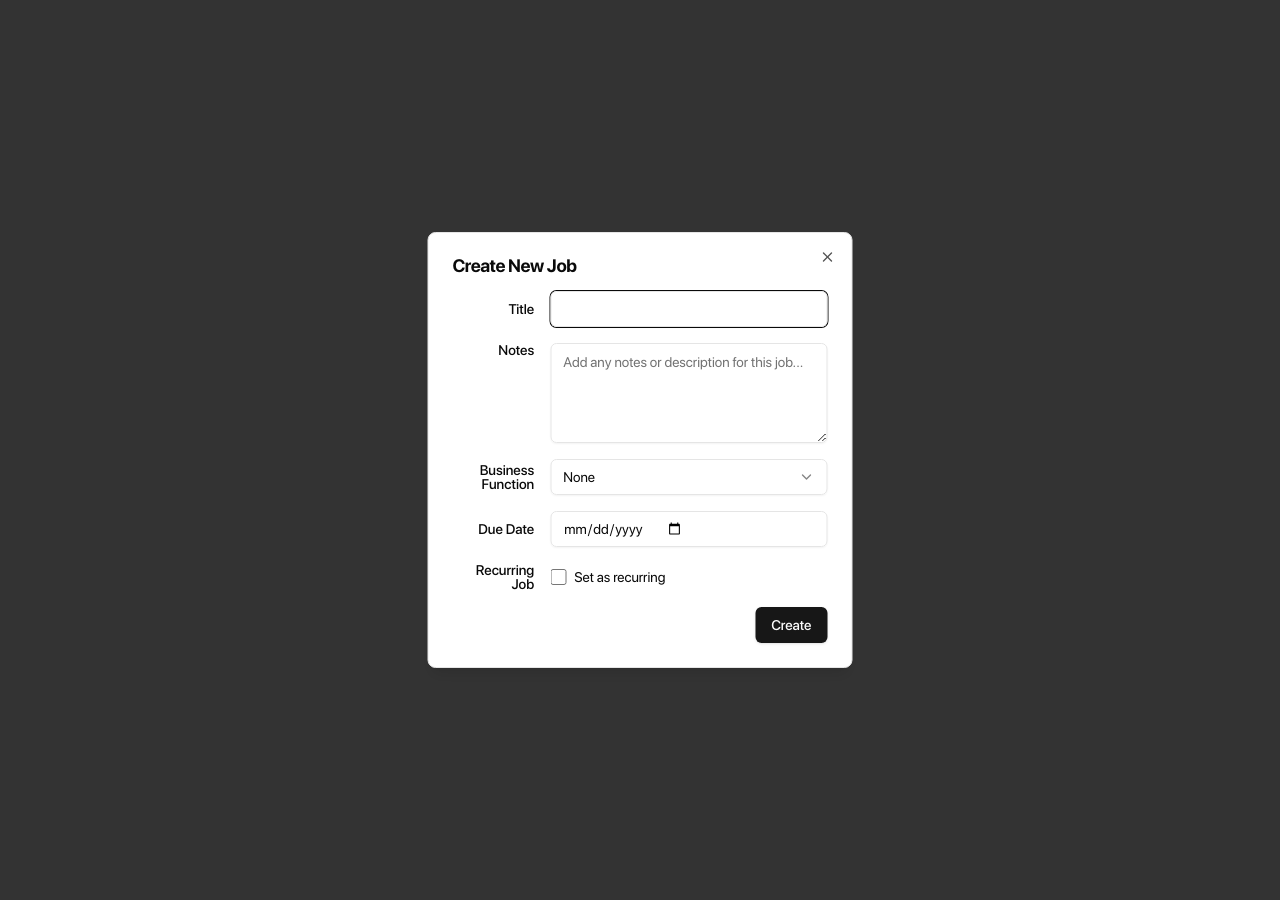
Scenario: JobDialog › Form Submission › shows loading state during submission
Type "New Job" into the field labelled "Title" at (689, 309), box [550,291,828,327]
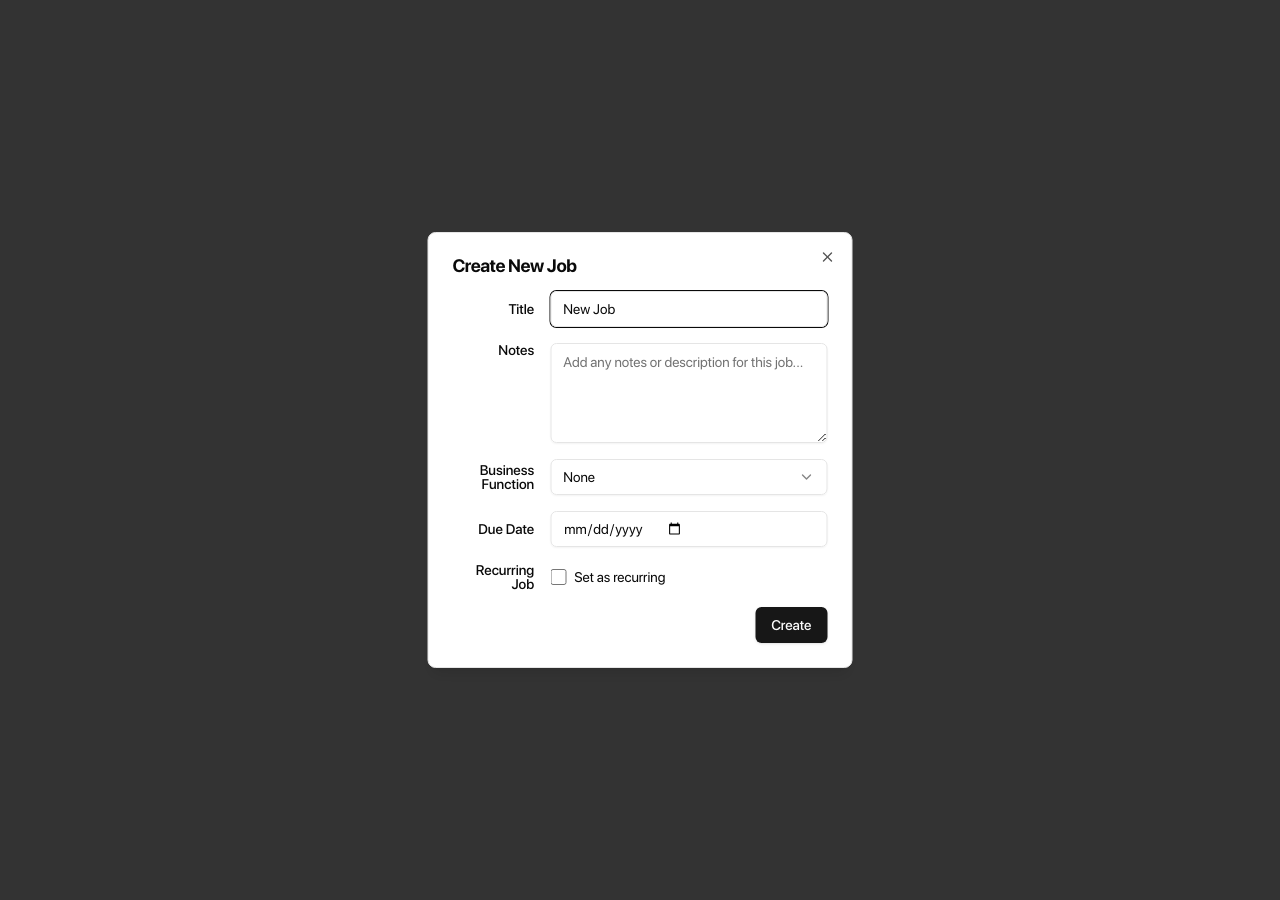
Click the button "Create" at (791, 625), box [755,607,828,643]
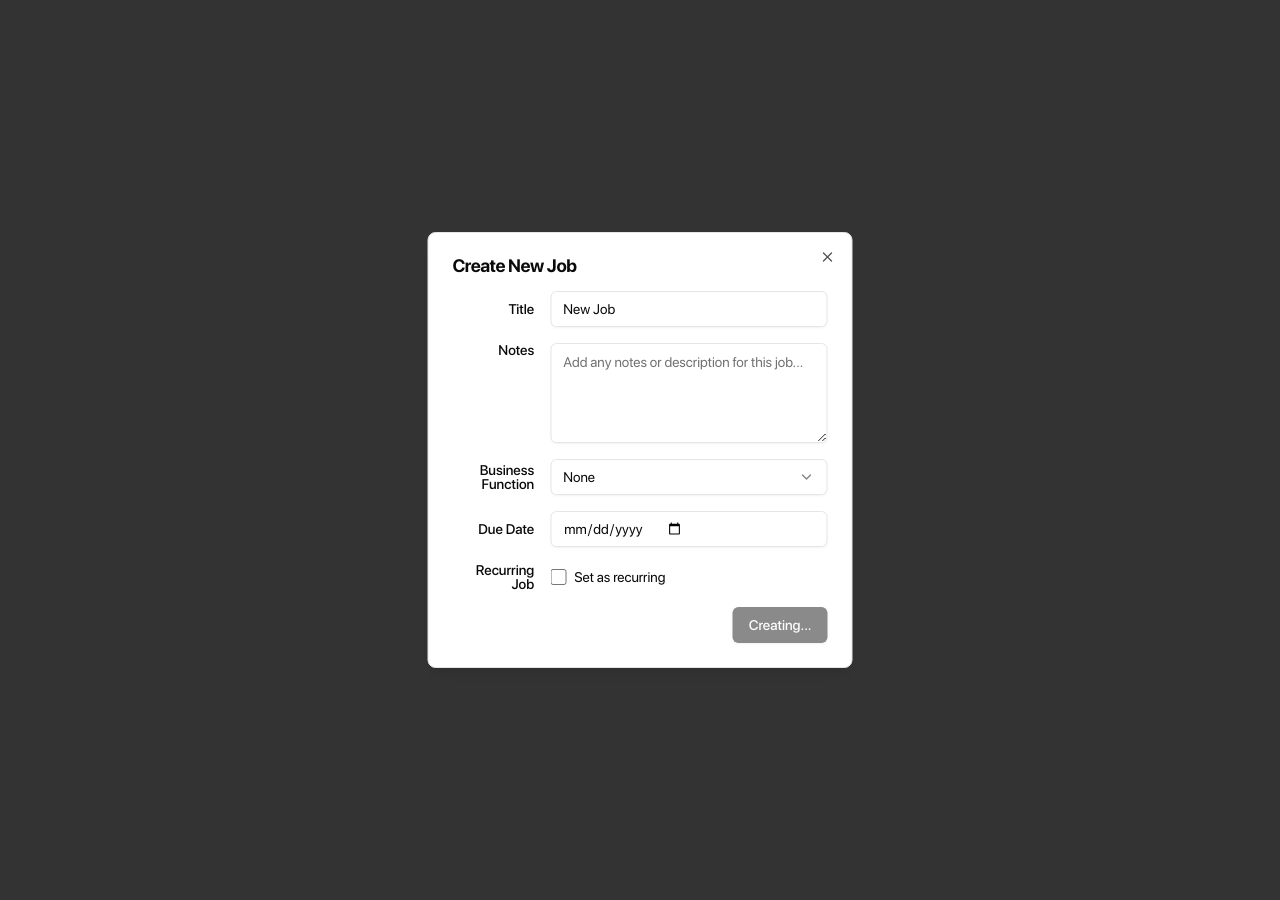
Now the button "Creating..." is disabled, box [733,607,828,643]
